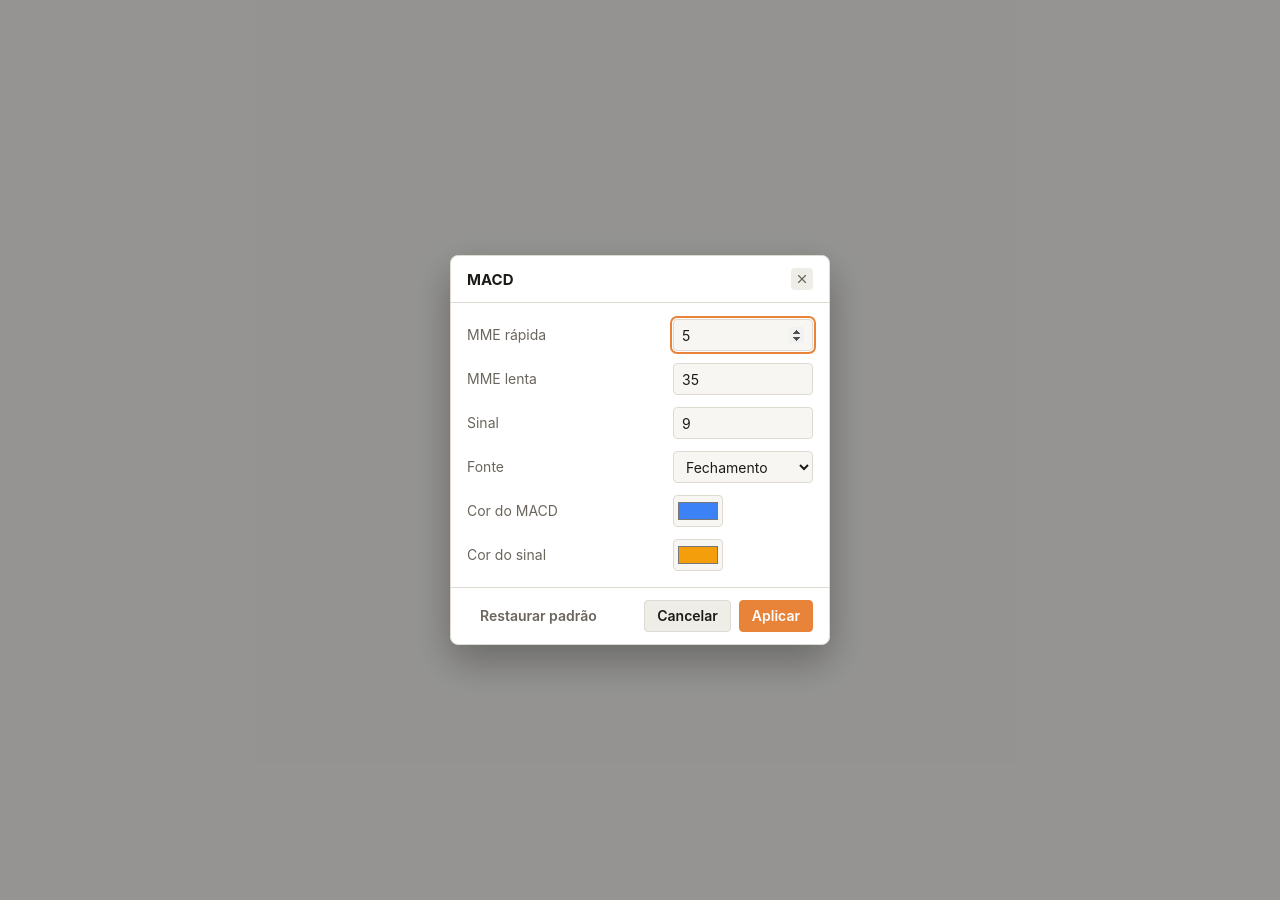
Test: IndicatorSettingsDialog › restaura os padrões
Expected: the number field labelled "MME rápida" holds "5", [673,319,813,351]
Click the button "Restaurar padrão" at (538, 616), box [467,600,610,632]
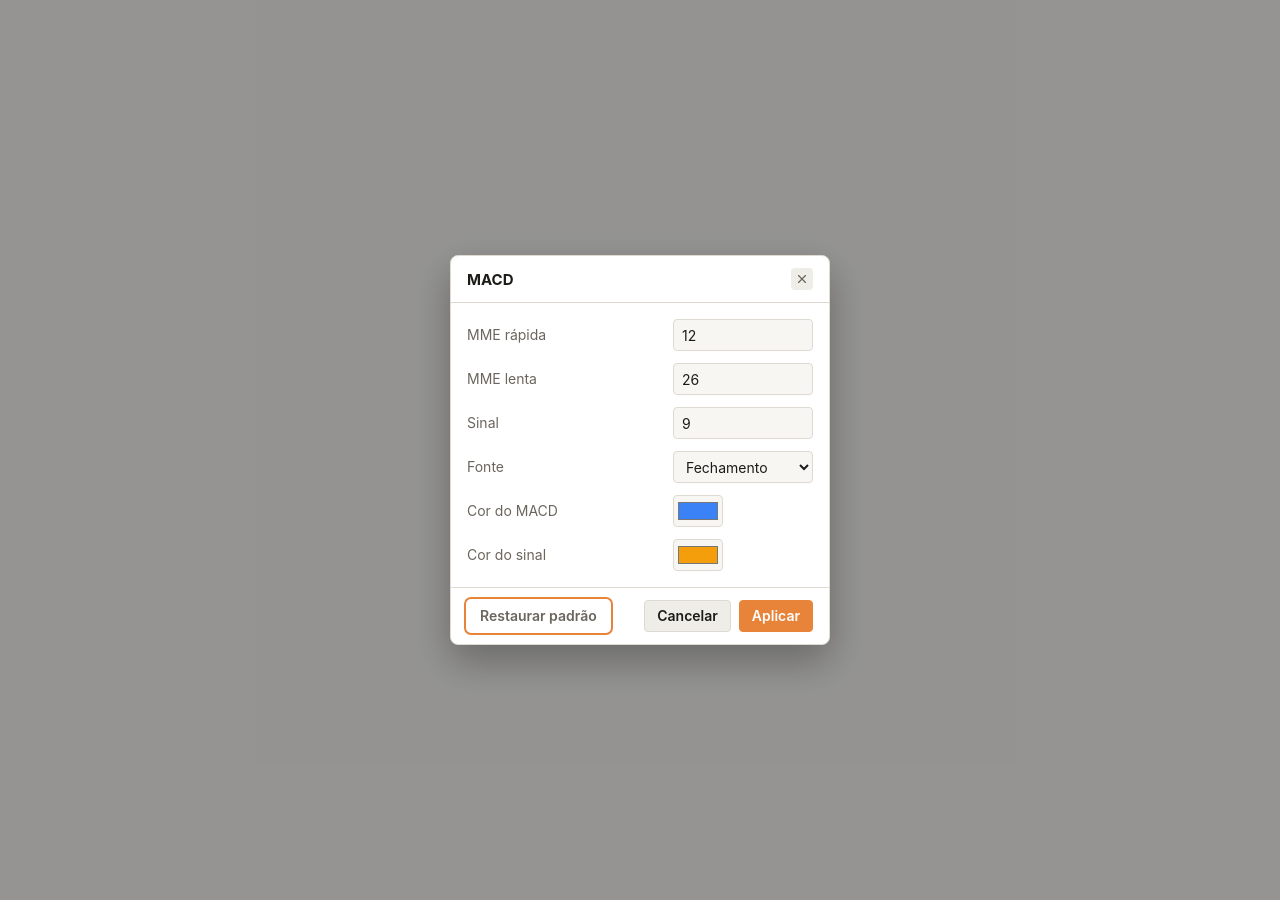
Expected: the number field labelled "MME rápida" holds "12", [673,319,813,351]
Expected: the number field labelled "MME lenta" holds "26", [673,363,813,395]
